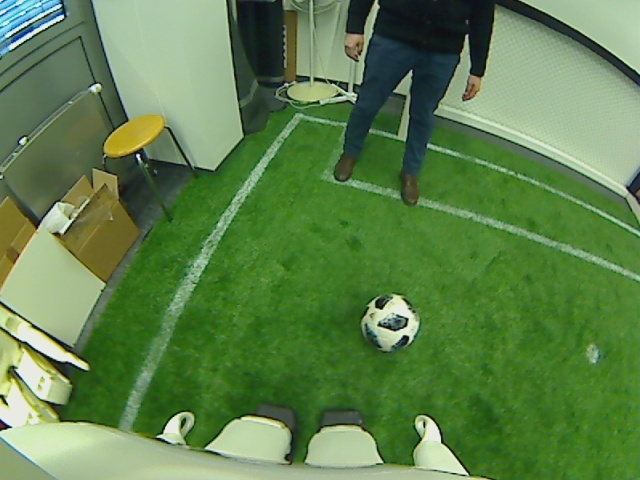ball: (357, 291, 422, 355)
